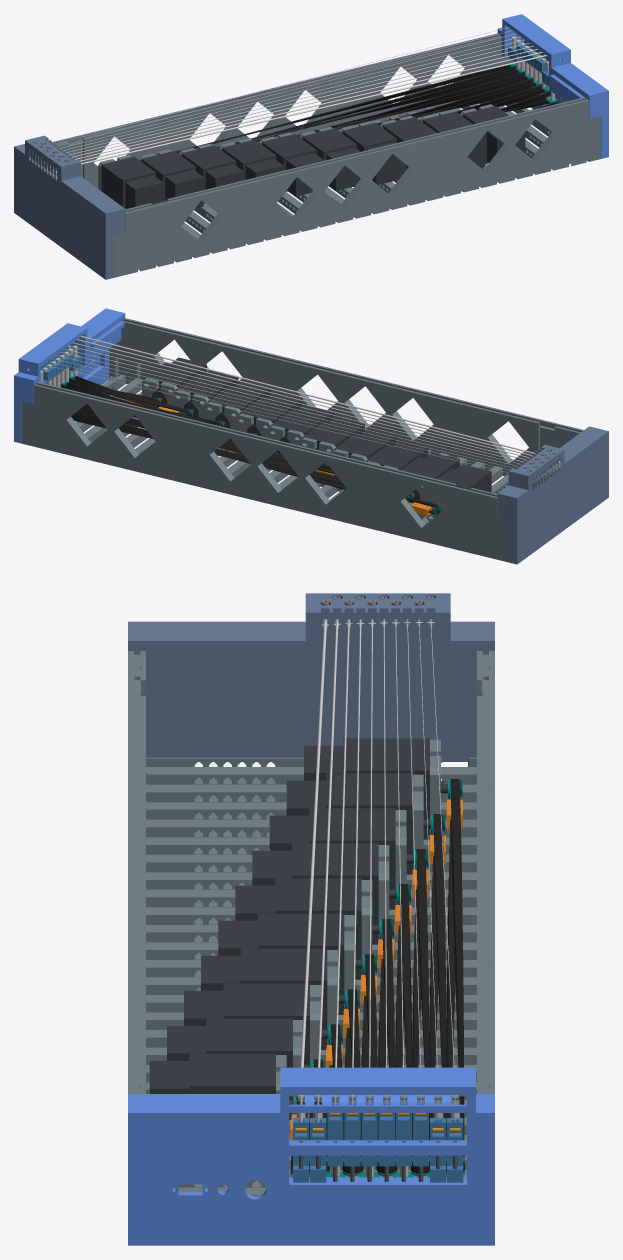
File: assembly.glb
The picture shows the model from 3 angles, top to bottom: view 1: azimuth 30°, elevation 25°; view 2: azimuth 150°, elevation 25°; view 3: azimuth 270°, elevation 25°; orthographic projection. The views are drawn at different scales.
Visible parts, largest first — view 1: chassis_1, chassis_0, chassis_2, keyhead_endplate, bridge_endplate, motor_0, belt_0, motor_1, motor_2, motor_5, motor_4, motor_6 (+20 smaller); view 2: chassis_1, chassis_0, chassis_2, keyhead_endplate, bridge_endplate, belt_0, motor_7, motor_6, motor_8, motor_9, motor_5, motor_4 (+18 smaller); view 3: bridge_endplate, keyhead_endplate, chassis_2, chassis_1, chassis_0, motor_9, motor_6, motor_3, motor_1, motor_2, motor_4, motor_5 (+15 smaller).
Part boxes in pixels (x1,y1,x2,y2): chassis_1: (162, 71, 433, 243); chassis_0: (342, 33, 600, 199); chassis_2: (51, 115, 253, 277); keyhead_endplate: (14, 135, 125, 279); bridge_endplate: (497, 14, 608, 158); motor_0: (101, 156, 163, 209); belt_0: (175, 65, 516, 152); motor_1: (141, 151, 203, 208); motor_2: (181, 145, 243, 203); motor_5: (302, 128, 360, 190); motor_4: (262, 134, 324, 196); motor_6: (342, 123, 404, 184); chassis_1: (189, 356, 460, 528); chassis_0: (22, 318, 280, 484); chassis_2: (369, 400, 583, 562); keyhead_endplate: (497, 426, 608, 564); bridge_endplate: (14, 308, 125, 443); belt_0: (71, 411, 438, 514); motor_7: (208, 382, 270, 427); motor_6: (239, 394, 301, 436); motor_8: (176, 370, 238, 417); motor_9: (144, 357, 206, 407); motor_5: (271, 405, 333, 454); motor_4: (303, 417, 364, 464); bridge_endplate: (128, 1067, 494, 1245); keyhead_endplate: (128, 593, 494, 761); chassis_2: (128, 651, 494, 889); chassis_1: (128, 776, 494, 1064); chassis_0: (128, 951, 494, 1196); motor_9: (149, 1053, 293, 1104); motor_6: (201, 948, 345, 1049); motor_3: (252, 843, 396, 944); motor_1: (286, 773, 430, 874); motor_2: (269, 808, 413, 909); motor_4: (235, 878, 379, 979); motor_5: (218, 913, 362, 1014).
Size of the model in its own units: 646 by 99.74 by 204.
